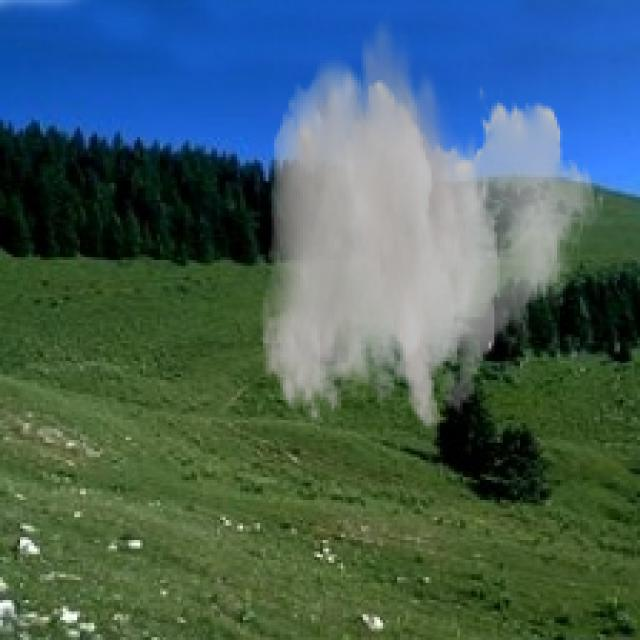smoke: (260, 11, 606, 432)
